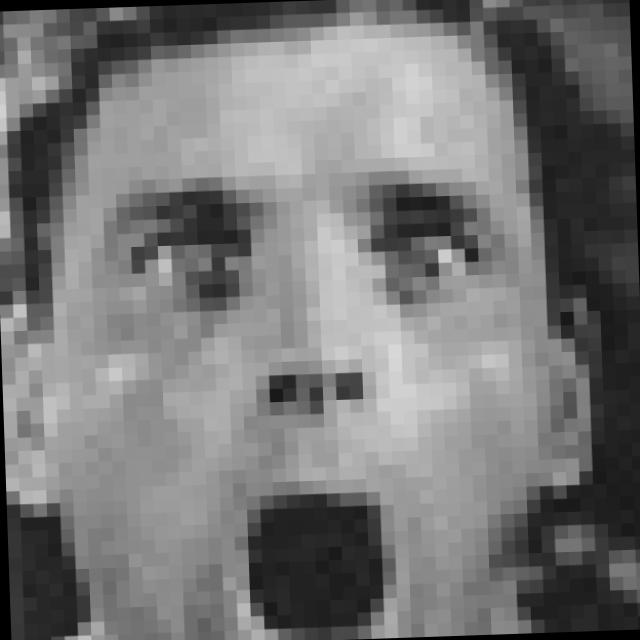surprise: (92, 157, 501, 640)
